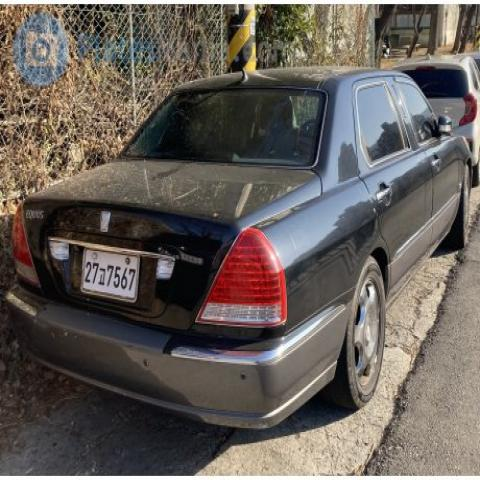LP: (77, 234, 150, 310)
